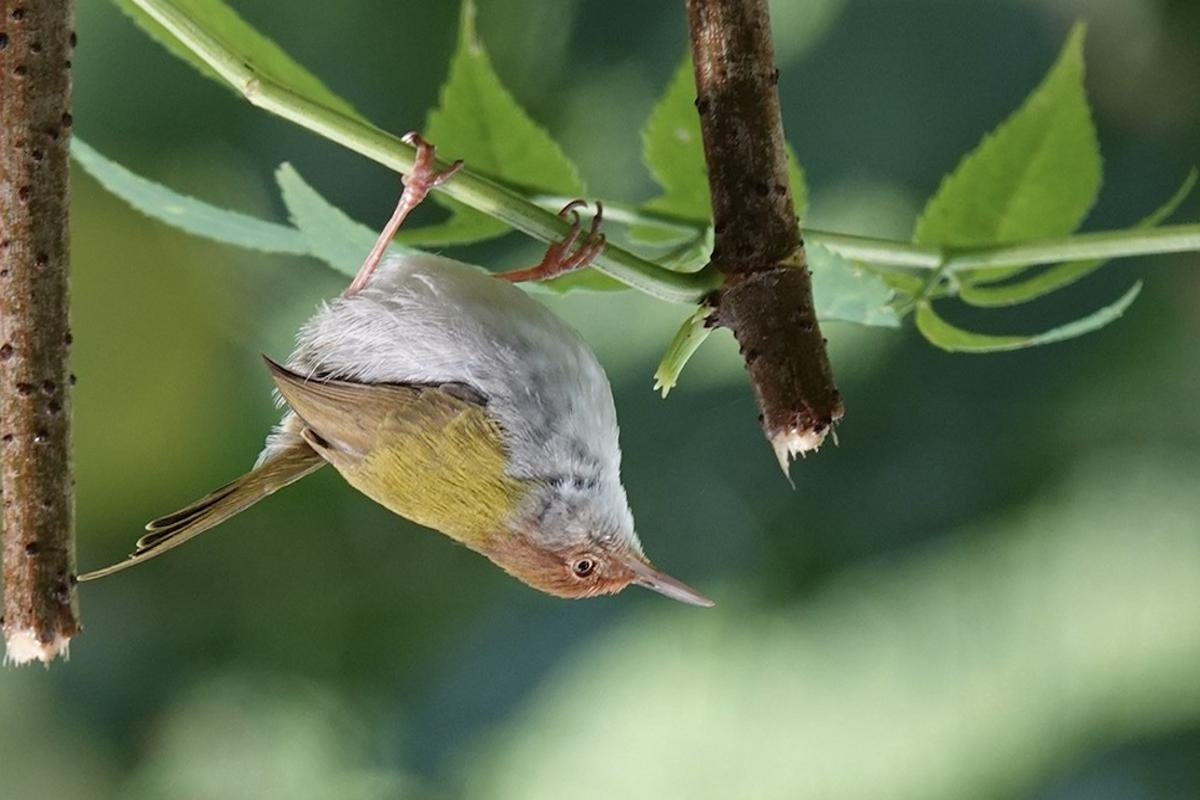tailorbird: (57, 170, 747, 682)
